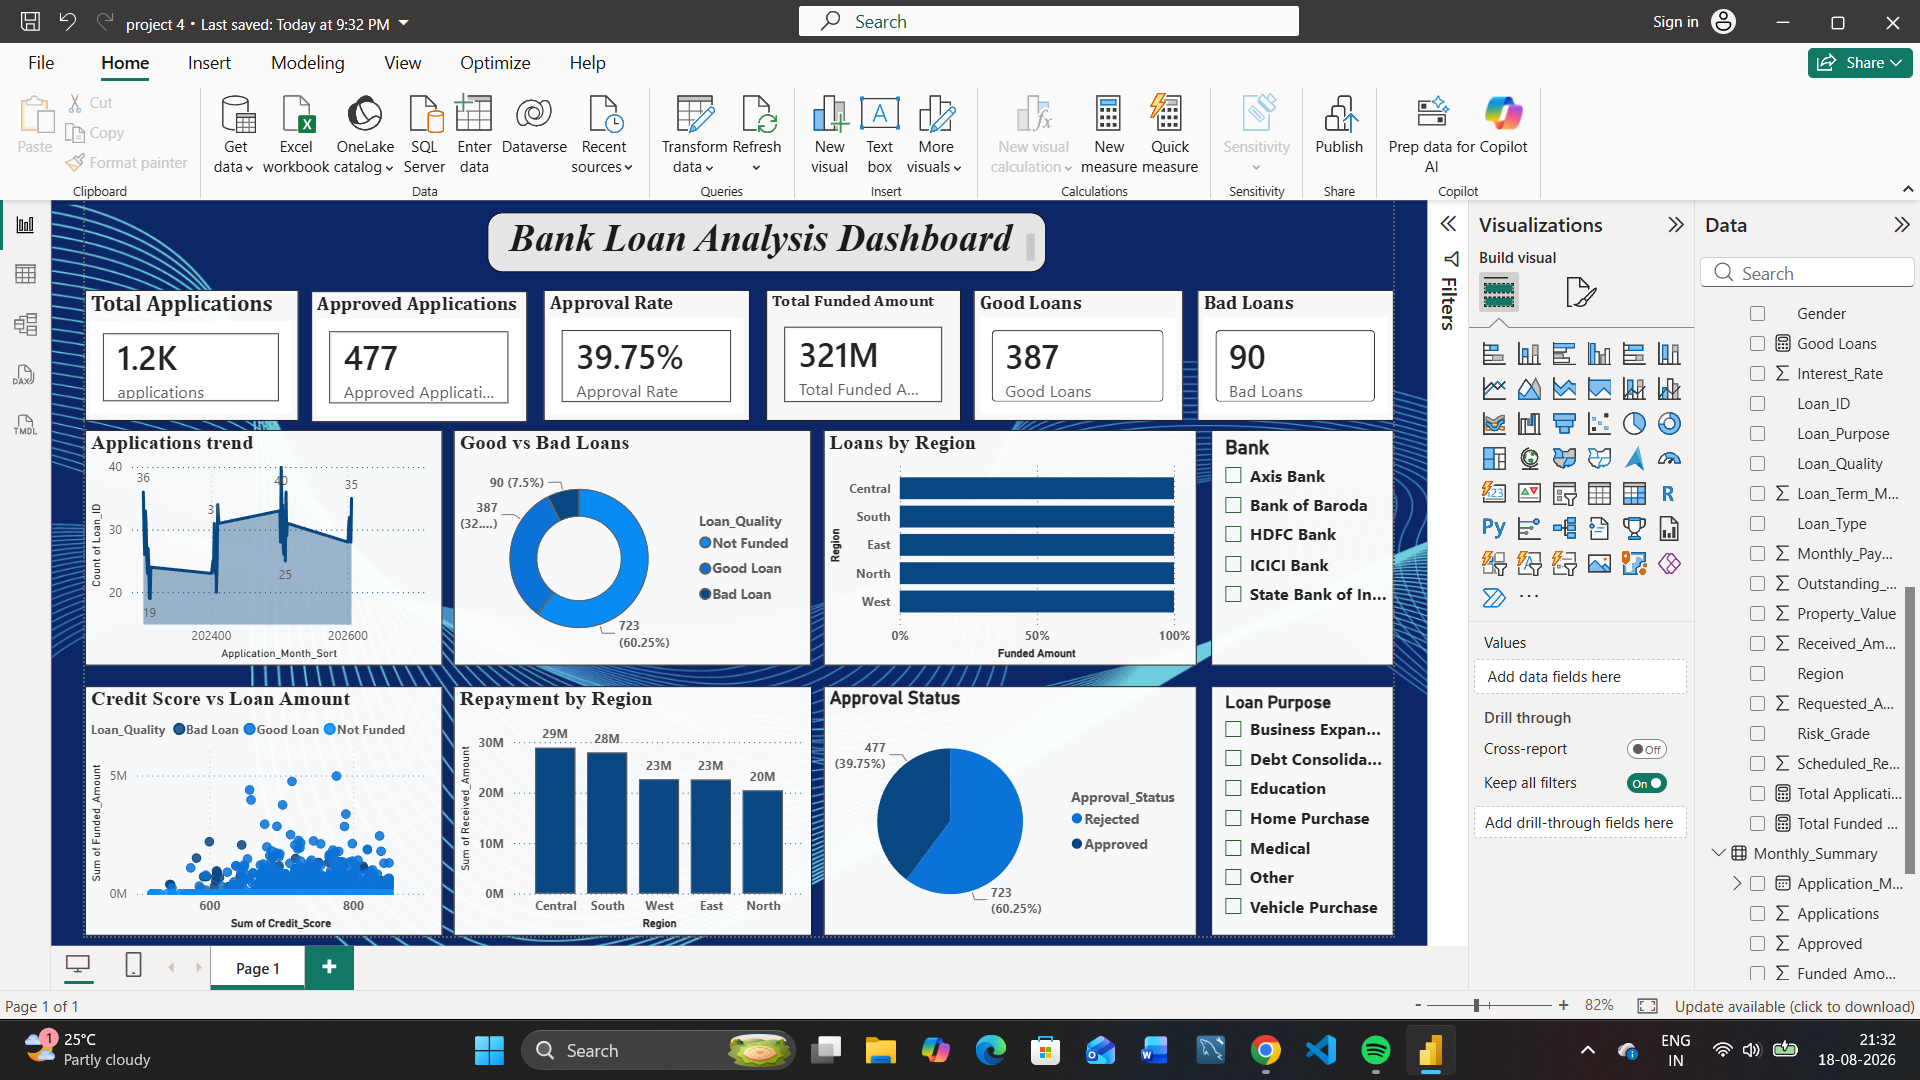

Layout of this report page (visuals, bound fields, positions):
{"tool":"powerbi","page":{"name":"Page 1","canvas":[1280,720],"ordinal":0},"visuals":[{"type":"textbox","box":[396.2,12.2,539.3,56.3],"z":0},{"type":"cardVisual","title":"Total Applications","fields":{"Data":["Loan_Data.Total Applications"]},"box":[0,87.8,208.6,127.6],"z":1000},{"type":"cardVisual","title":"Approved Applications","fields":{"Data":["Loan_Data.Approved Applications"]},"box":[220.9,89.2,211.3,127.6],"z":2000},{"type":"cardVisual","title":"Approval Rate","fields":{"Data":["Loan_Data.Approval Rate"]},"box":[448.7,87.8,201.7,127.6],"z":3000},{"type":"cardVisual","title":"Total Funded Amount","fields":{"Data":["Loan_Data.Total Funded Amount"]},"box":[666.9,87.8,190.7,127.6],"z":4000},{"type":"cardVisual","title":"Good Loans","fields":{"Data":["Loan_Data.Good Loans"]},"box":[870,87.8,204.5,127.6],"z":5000},{"type":"cardVisual","title":"Bad Loans","fields":{"Data":["Loan_Data.Bad Loans"]},"box":[1088.2,87.8,192.1,127.6],"z":6000},{"type":"lineChart","title":"Applications trend","fields":{"Category":["Loan_Data.Application_Month_Sort"],"Y":["CountNonNull(Loan_Data.Loan_ID)"]},"box":[0,225,349.9,230.5],"z":7000},{"type":"donutChart","title":"Good vs Bad Loans","fields":{"Category":["Loan_Data.Loan_Quality"],"Y":["CountNonNull(Loan_Data.Loan_ID)"]},"box":[360.9,225,349.9,230.5],"z":8000},{"type":"hundredPercentStackedBarChart","title":"Loans by Region","fields":{"Category":["Region_Summary.Region"],"Y":["Sum(Loan_Data.Funded_Amount)"]},"box":[723.2,225,365,230.5],"z":9000},{"type":"slicer","fields":{"Values":["Loan_Data.Bank"]},"box":[1101.9,225,178.4,230.5],"z":10000},{"type":"scatterChart","title":"Credit Score vs Loan Amount","fields":{"X":["Sum(Loan_Data.Credit_Score)"],"Y":["Sum(Loan_Data.Funded_Amount)"],"Series":["Loan_Data.Loan_Quality"],"Category":["Loan_Data.Loan_ID"]},"box":[0,476.2,349.9,244.3],"z":11000},{"type":"pieChart","title":"Approval Status","fields":{"Category":["Loan_Data.Approval_Status"],"Y":["CountNonNull(Loan_Data.Loan_ID)"]},"box":[723.2,476.2,365,244.3],"z":12000},{"type":"columnChart","title":"Repayment by Region","fields":{"Category":["Loan_Data.Region"],"Y":["Sum(Loan_Data.Received_Amount)"]},"box":[361,476,350,244],"z":13000},{"type":"slicer","fields":{"Values":["Loan_Data.Loan_Purpose"]},"box":[1102,476,178,244],"z":14000}]}

Visuals, with their boxes on the page's 1280x720 design canvas (x1, y1, x2, y2). These are canvas units, not pixel positions in the 1920x1080 screenshot, which may show the page scaled, cropped or inside an application window:
textbox: {"left": 396, "top": 12, "right": 936, "bottom": 68}
"Total Applications" cardVisual: {"left": 0, "top": 88, "right": 209, "bottom": 215}
"Approved Applications" cardVisual: {"left": 221, "top": 89, "right": 432, "bottom": 217}
"Approval Rate" cardVisual: {"left": 449, "top": 88, "right": 650, "bottom": 215}
"Total Funded Amount" cardVisual: {"left": 667, "top": 88, "right": 858, "bottom": 215}
"Good Loans" cardVisual: {"left": 870, "top": 88, "right": 1074, "bottom": 215}
"Bad Loans" cardVisual: {"left": 1088, "top": 88, "right": 1280, "bottom": 215}
"Applications trend" lineChart: {"left": 0, "top": 225, "right": 350, "bottom": 456}
"Good vs Bad Loans" donutChart: {"left": 361, "top": 225, "right": 711, "bottom": 456}
"Loans by Region" hundredPercentStackedBarChart: {"left": 723, "top": 225, "right": 1088, "bottom": 456}
slicer - Loan_Data.Bank: {"left": 1102, "top": 225, "right": 1280, "bottom": 456}
"Credit Score vs Loan Amount" scatterChart: {"left": 0, "top": 476, "right": 350, "bottom": 720}
"Approval Status" pieChart: {"left": 723, "top": 476, "right": 1088, "bottom": 720}
"Repayment by Region" columnChart: {"left": 361, "top": 476, "right": 711, "bottom": 720}
slicer - Loan_Data.Loan_Purpose: {"left": 1102, "top": 476, "right": 1280, "bottom": 720}
